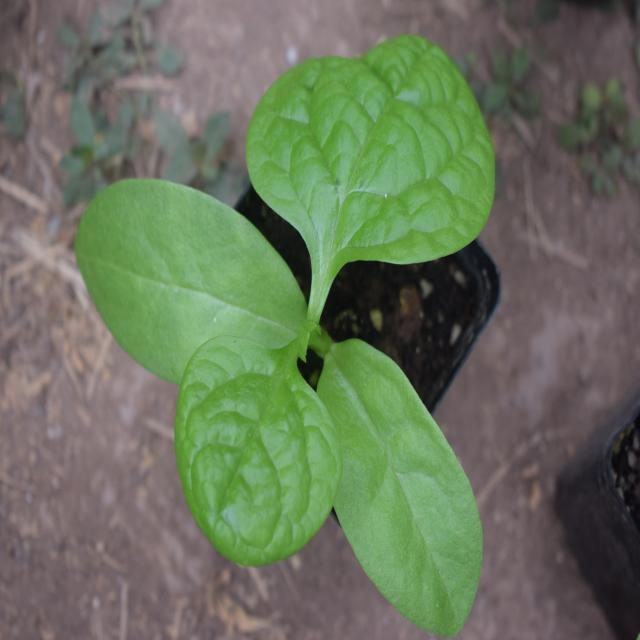Ceylon spinach: (64, 35, 498, 622)
